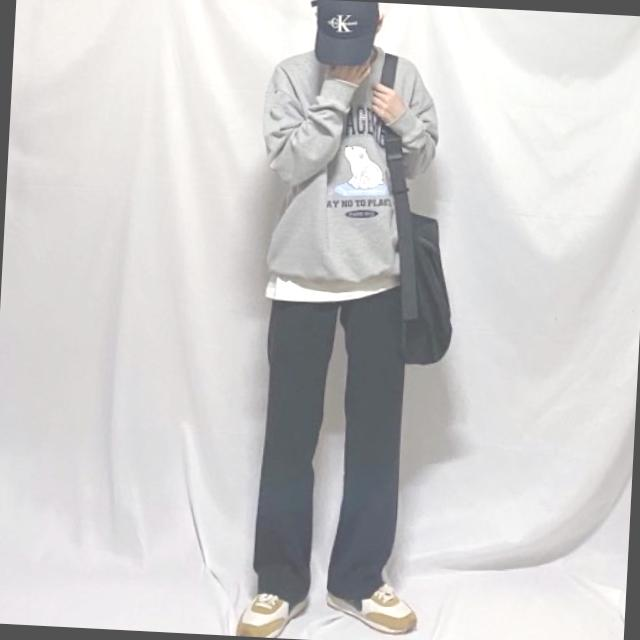mtm: (252, 37, 441, 287)
slacks: (248, 279, 406, 607)
